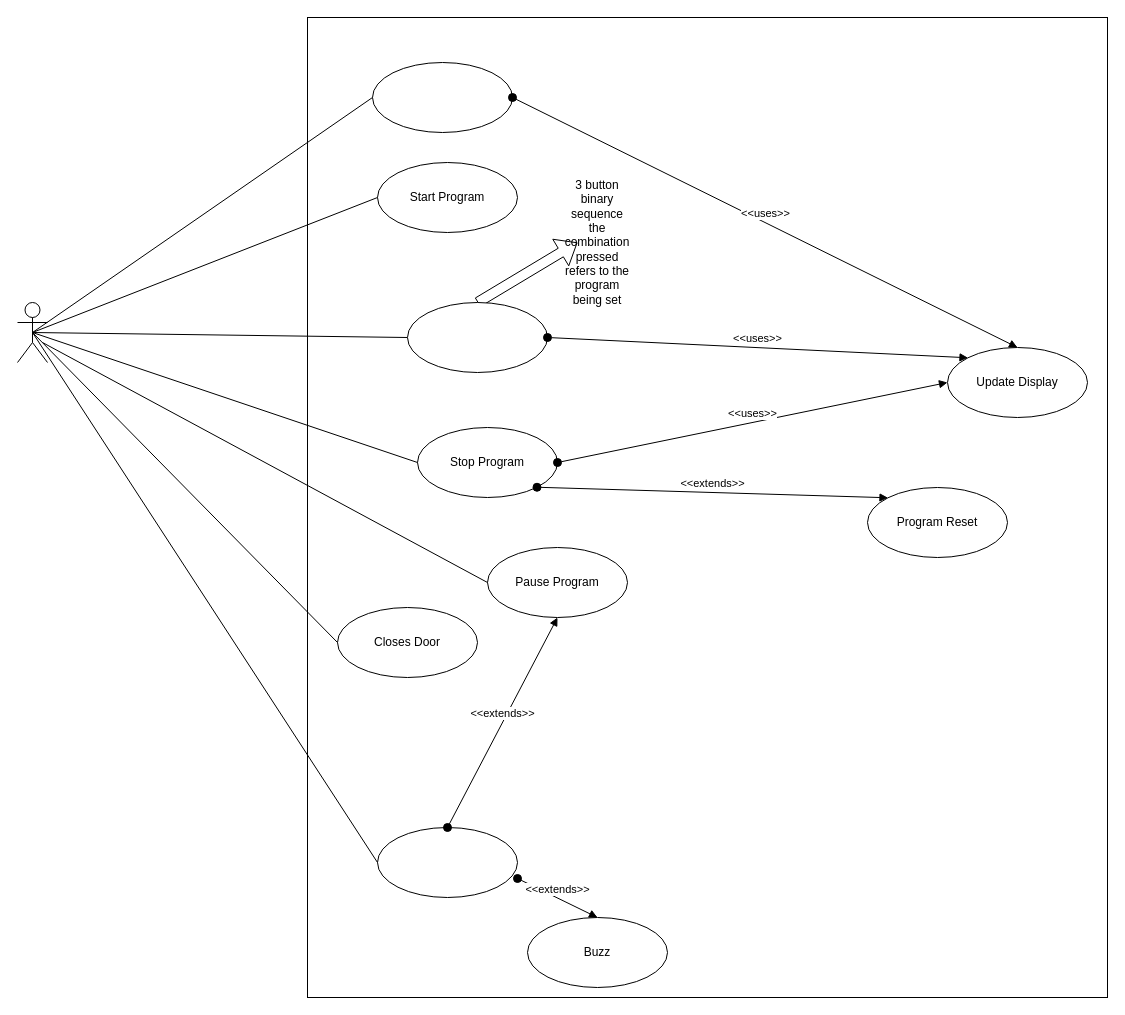
The diagram is 1125 pixels wide and 1015 high, and some of its shapes have lost their labels. The shapes that lost their labels are listed below. From the top down, each one's centre as x and y in pixels, then its label:
[442,97]: Skip Cycle
[32,332]: User
[477,337]: Set Program
[447,862]: Opens Door
